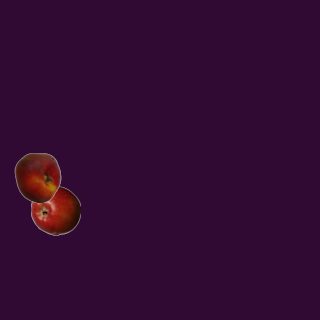Apple Braeburn: (30, 185, 80, 235)
Nectarine Flat: (12, 152, 62, 202)
